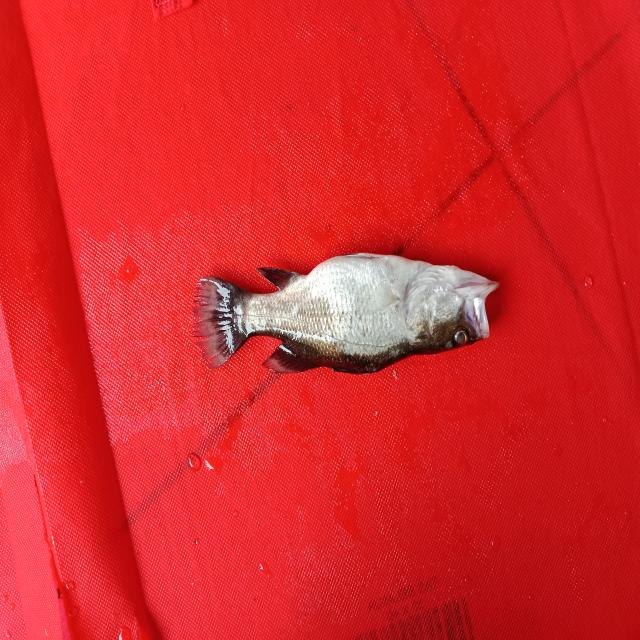ikan: (155, 226, 508, 392)
